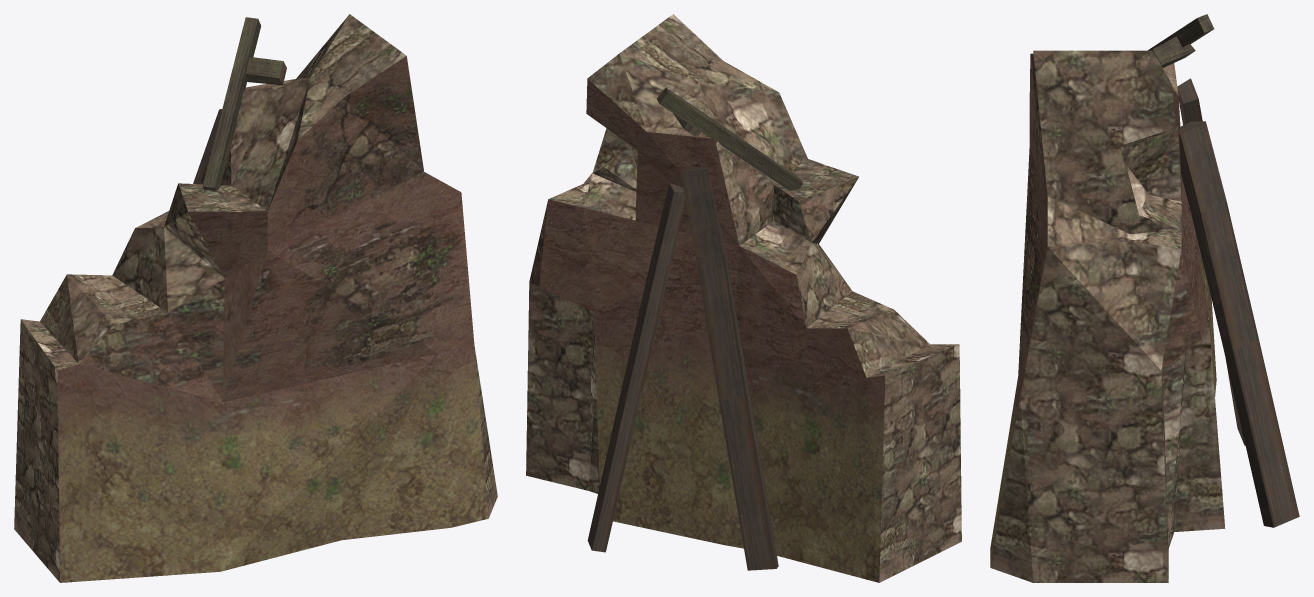
File: C1SMDEBRIWA1.obj
The picture shows the model from 3 angles, left to right: view 1: azimuth 30°, elevation 25°; view 2: azimuth 150°, elevation 25°; view 3: azimuth 270°, elevation 25°; orthographic projection. The views are drawn at different scales.
Parts seen in each view (by area): view 1: Node 0; view 2: Node 0; view 3: Node 0.
Boxes of the visible parts, box(x1,y1,x2,y2) form: Node 0: box(14, 14, 497, 582); Node 0: box(526, 14, 961, 582); Node 0: box(990, 14, 1299, 582).
Bounding box in the file's own units: 7.05 × 7.59 × 4.32.
4 materials, 4 textured.
